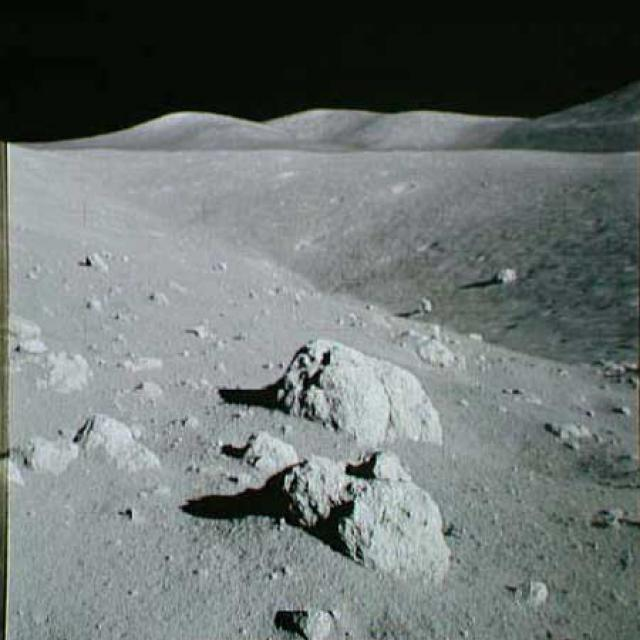crater: (471, 406, 633, 486)
rock: (277, 448, 458, 586), (255, 325, 441, 448), (78, 407, 158, 482), (223, 419, 297, 470), (397, 324, 466, 374), (270, 594, 344, 638), (22, 423, 82, 475), (3, 304, 52, 365), (43, 346, 100, 398), (503, 572, 559, 608), (74, 238, 109, 282), (114, 344, 163, 375), (119, 372, 161, 399), (489, 261, 523, 286)
